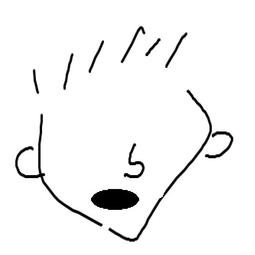ear: (11, 140, 51, 186), (190, 125, 239, 158)
nose: (113, 128, 150, 182)
open_mouth: (87, 188, 143, 213)
